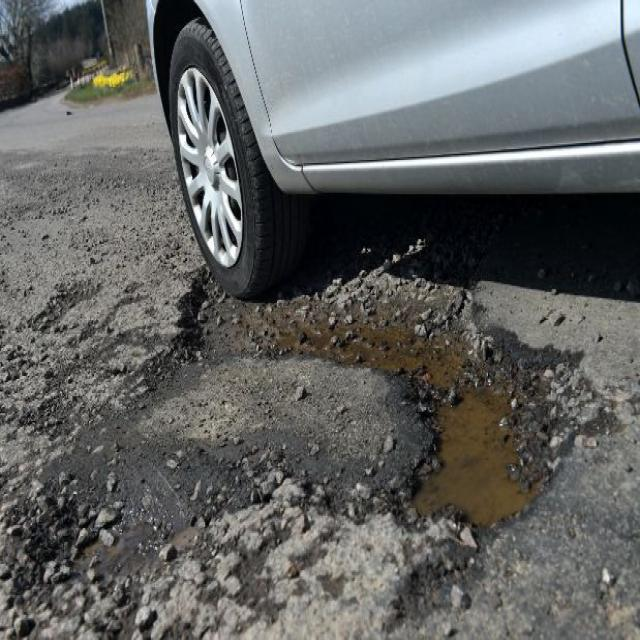pothole: (163, 280, 608, 540)
